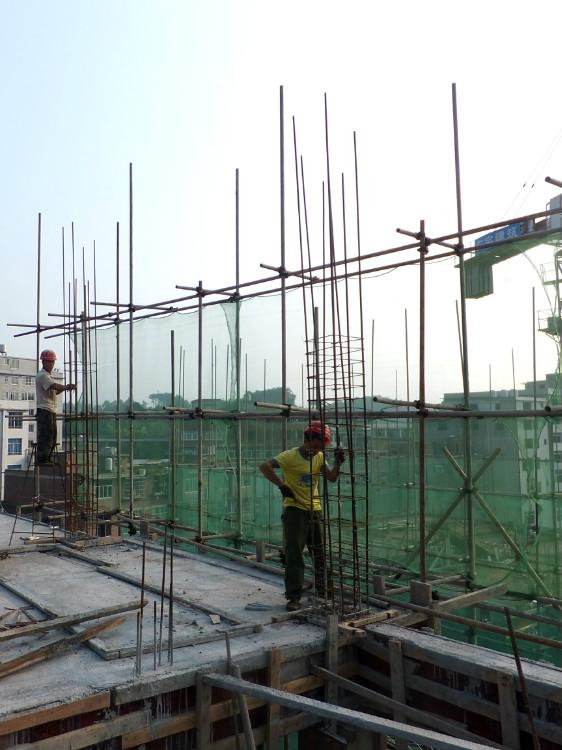helmet: (304, 421, 332, 446), (41, 350, 58, 362)
